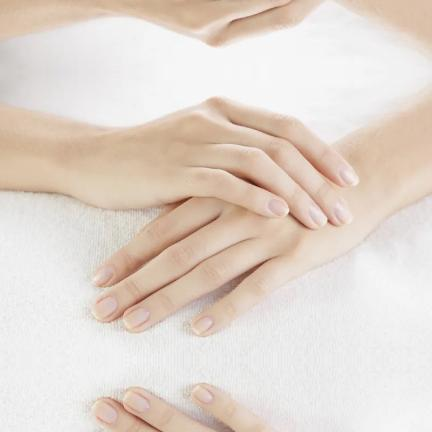Nail: (122, 306, 149, 329), (93, 296, 118, 320), (93, 399, 118, 423), (122, 390, 149, 412), (93, 264, 115, 286), (339, 163, 359, 185), (334, 201, 353, 223), (192, 384, 213, 403), (309, 203, 327, 225), (192, 316, 213, 334), (267, 198, 289, 215)
